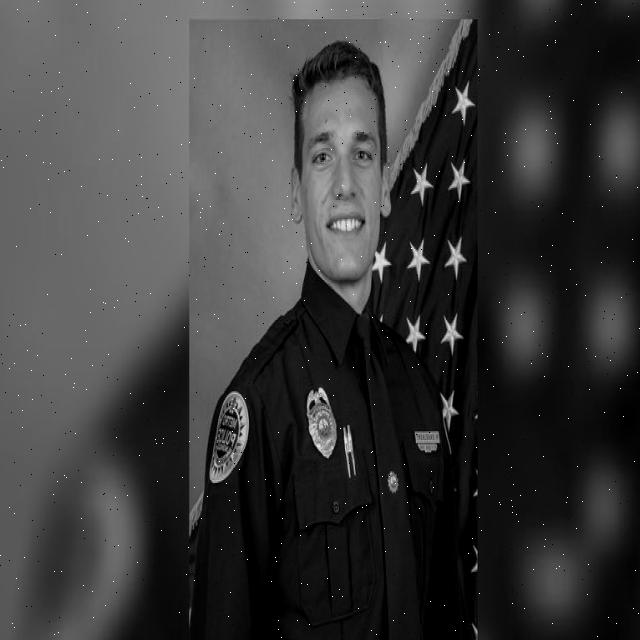police: (199, 19, 460, 640)
